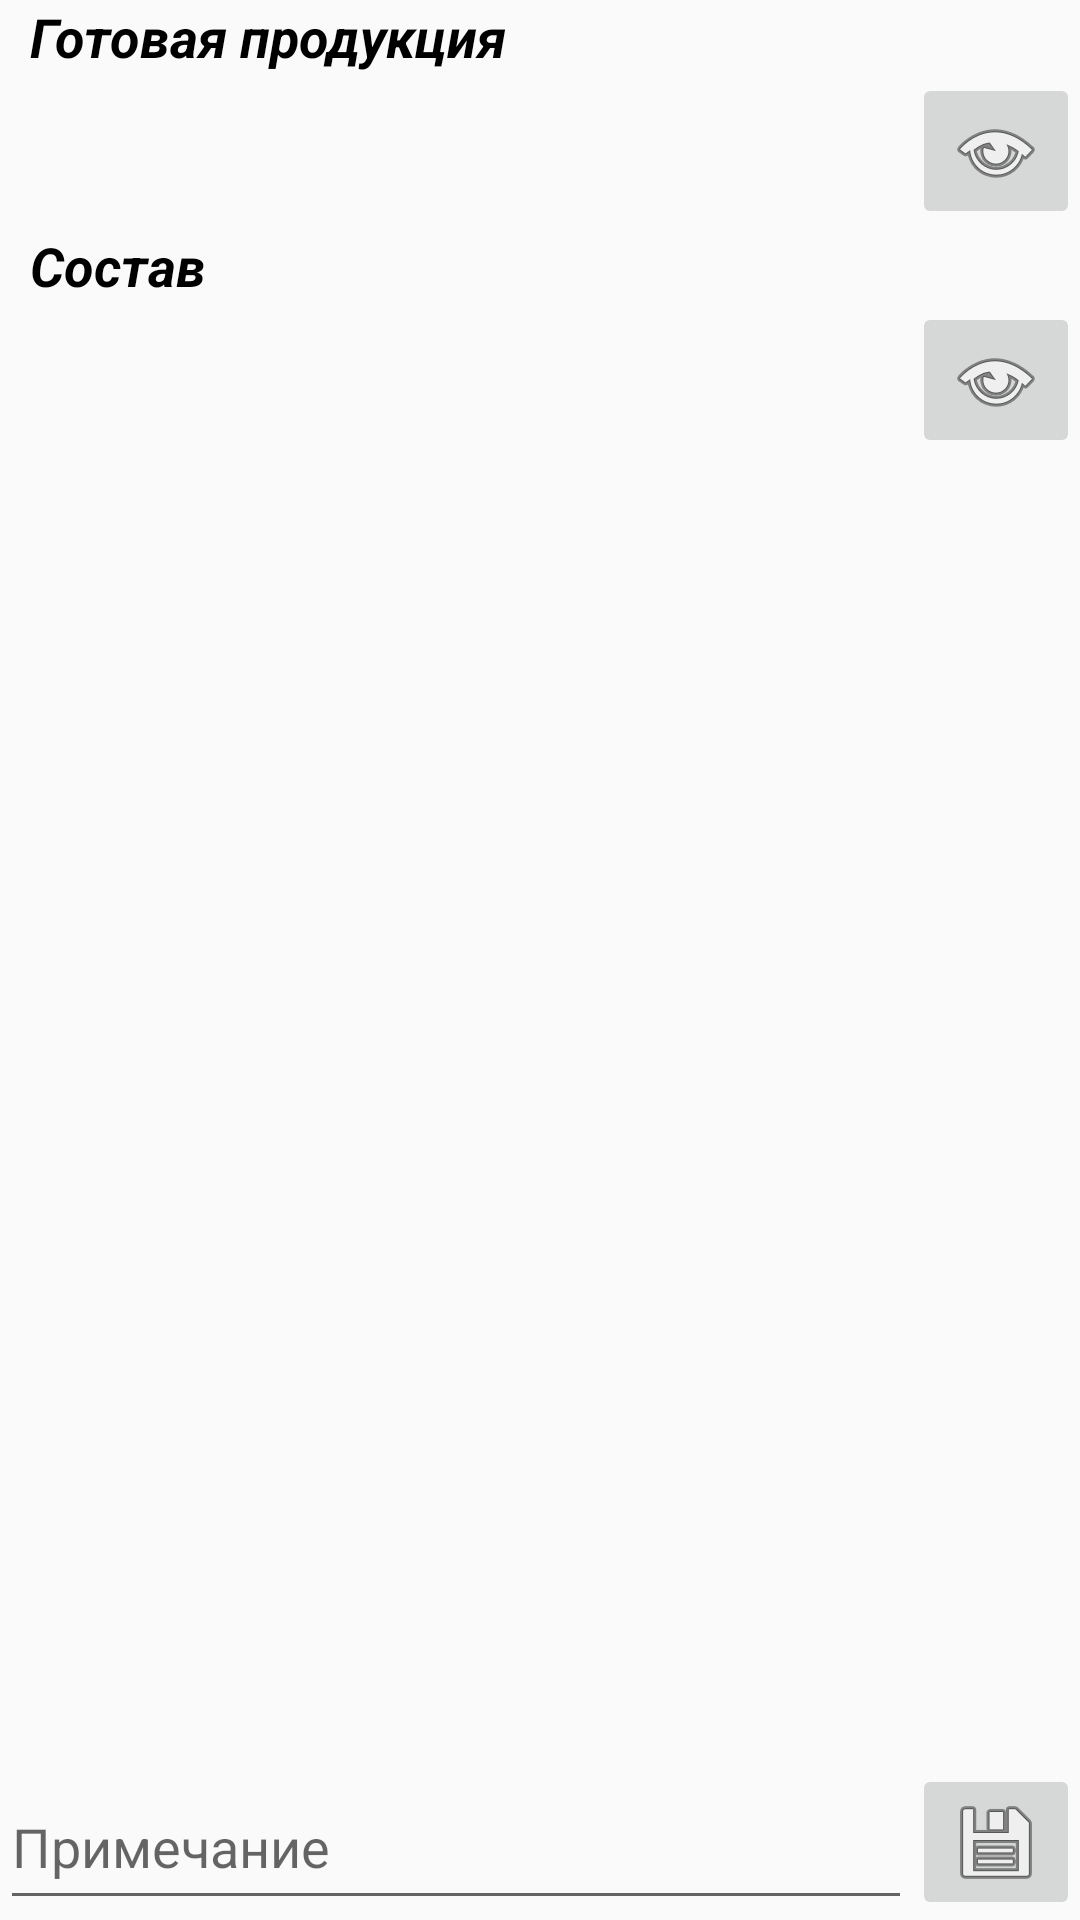

Locate icon controls on the screen. Image size 1080px×1920px, boxes as (x1, y1, x2, y2).
save: (924, 1782, 1068, 1902)
view: (924, 91, 1068, 211), (924, 320, 1068, 440)
